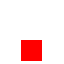square: (21, 40, 41, 60)
